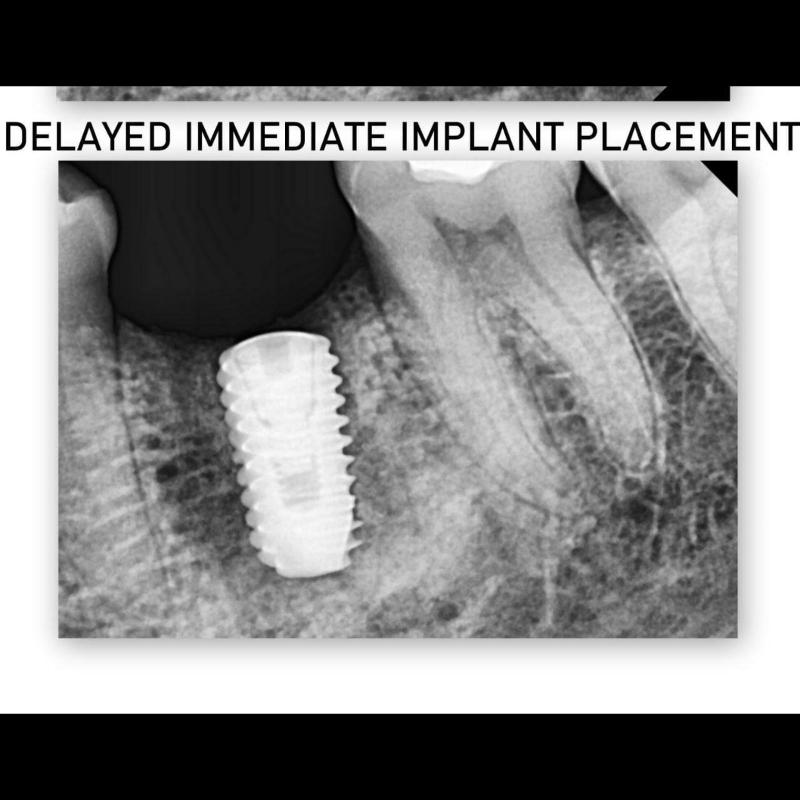osstem: (205, 326, 365, 578)
